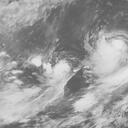cyclone: (84, 25, 127, 97)
